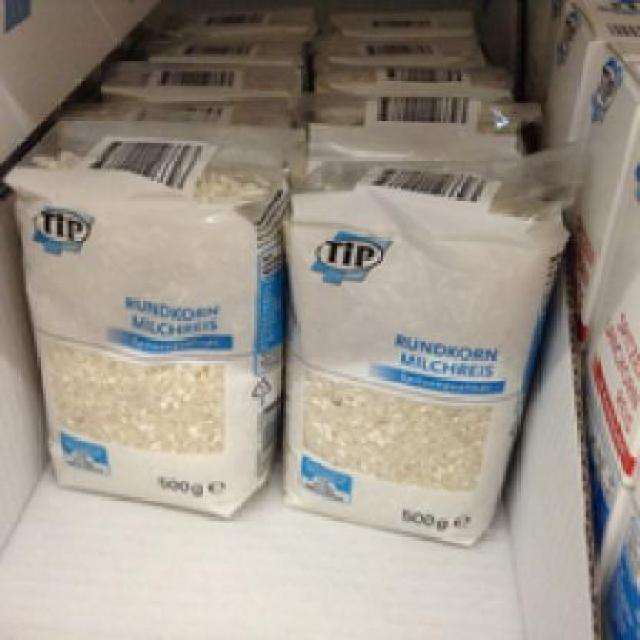Rice: (277, 148, 577, 546), (3, 132, 286, 518)
